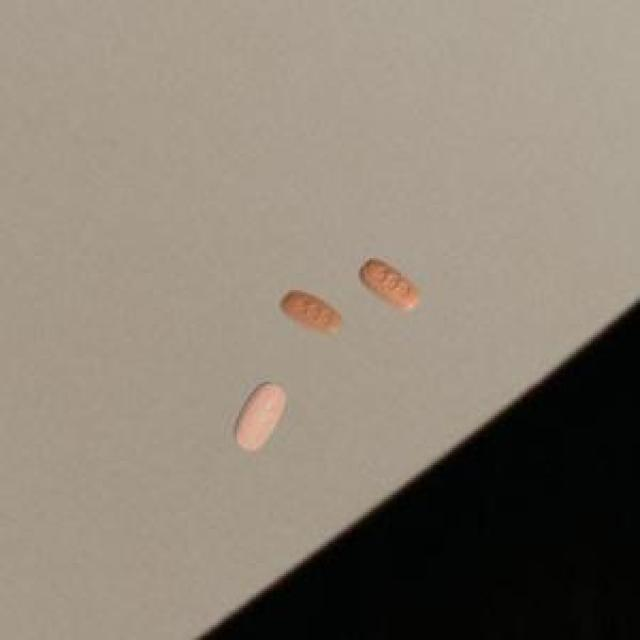Biogesic: (222, 373, 300, 460), (350, 243, 438, 315), (271, 275, 351, 348)
